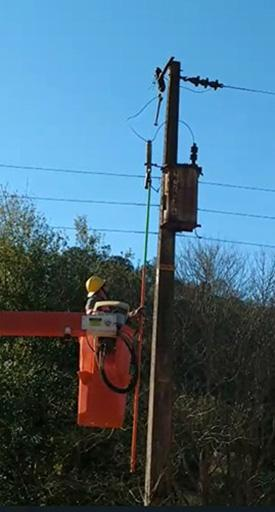Vara_Manobra: (128, 184, 151, 478)
